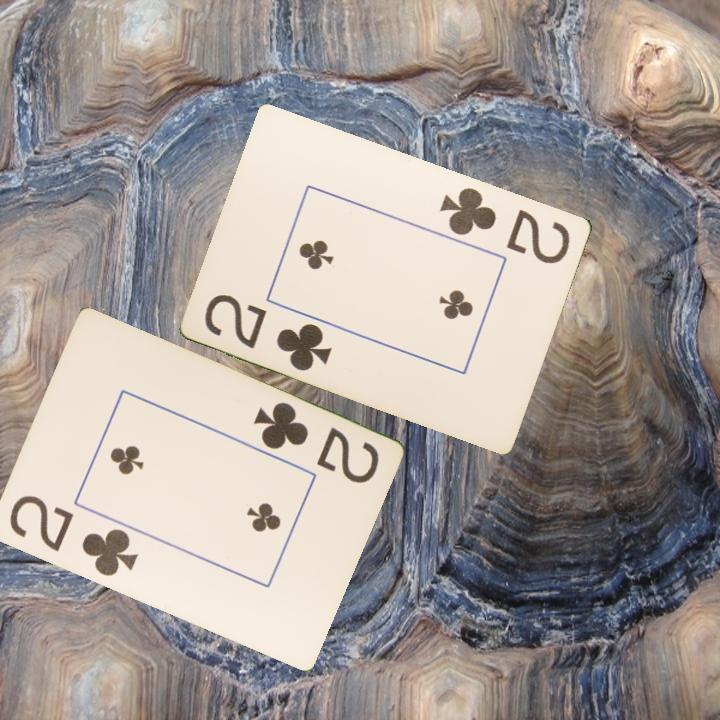2c: (5, 491, 140, 580), (249, 398, 382, 487), (437, 183, 574, 267), (201, 290, 335, 374)
